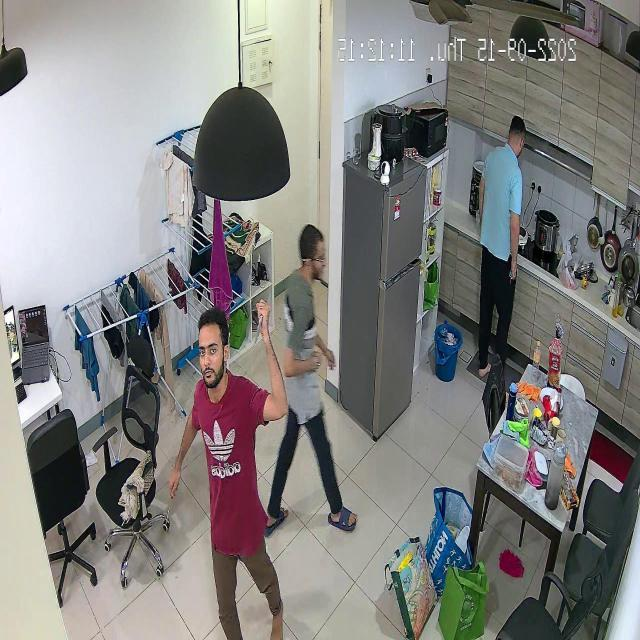Knife: (251, 287, 279, 363)
